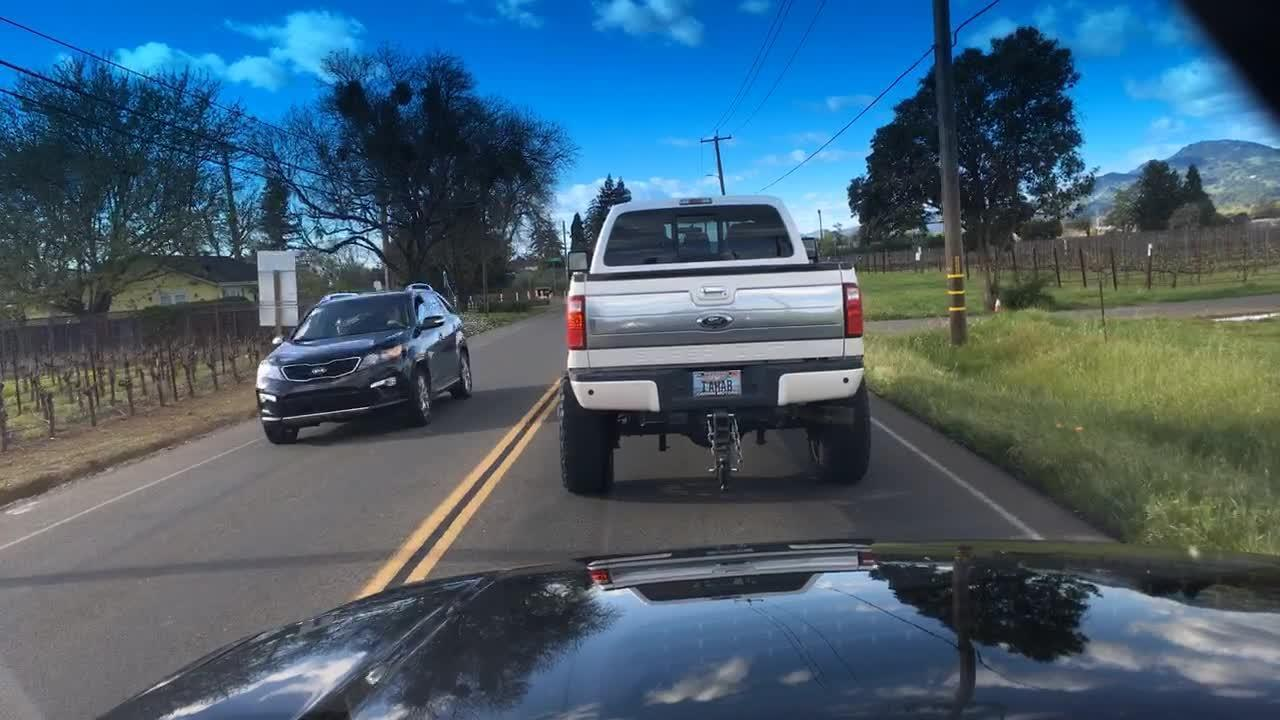ford: (689, 307, 738, 339)
